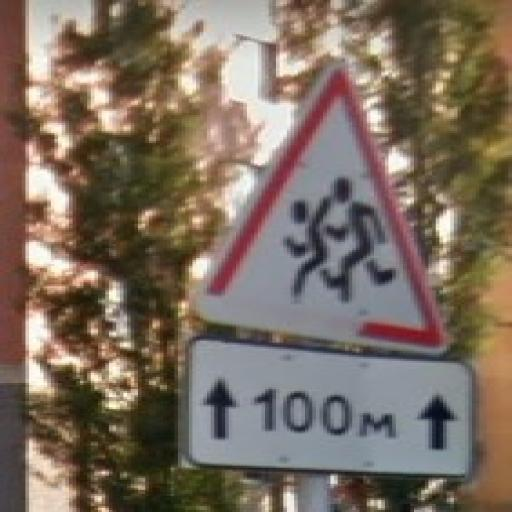traffic_sign: (186, 59, 455, 356)
